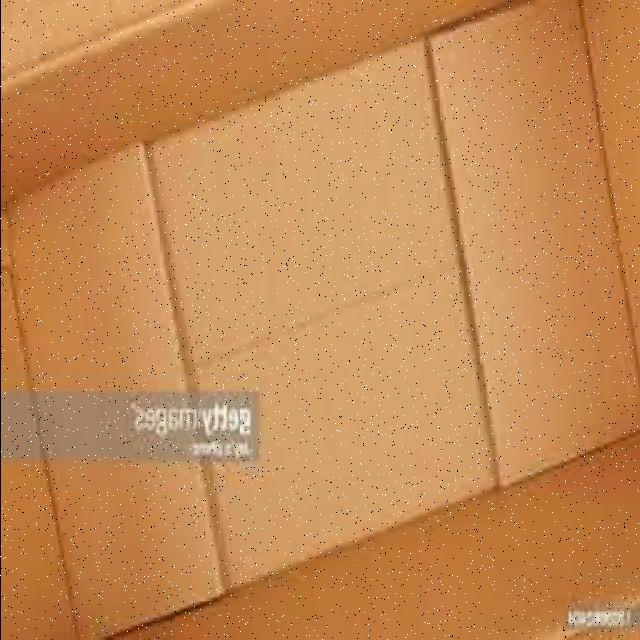defect: (0, 4, 636, 640)
